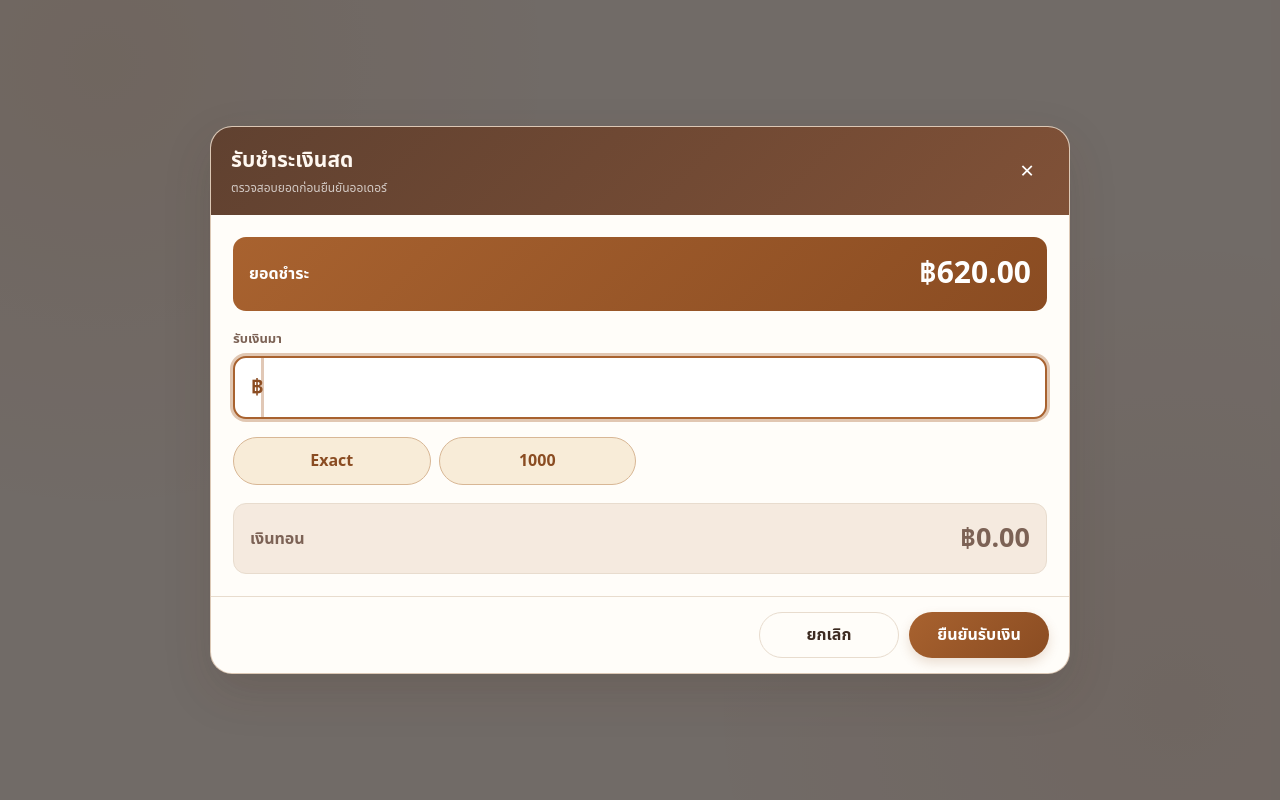
Scenario: CashPaymentModal › supports exact and appropriate denomination shortcuts
Expected: the button "1000" is shown, [438, 437, 636, 485]
Step 1. Click the button "Exact" → (332, 461), box [233, 437, 430, 485]
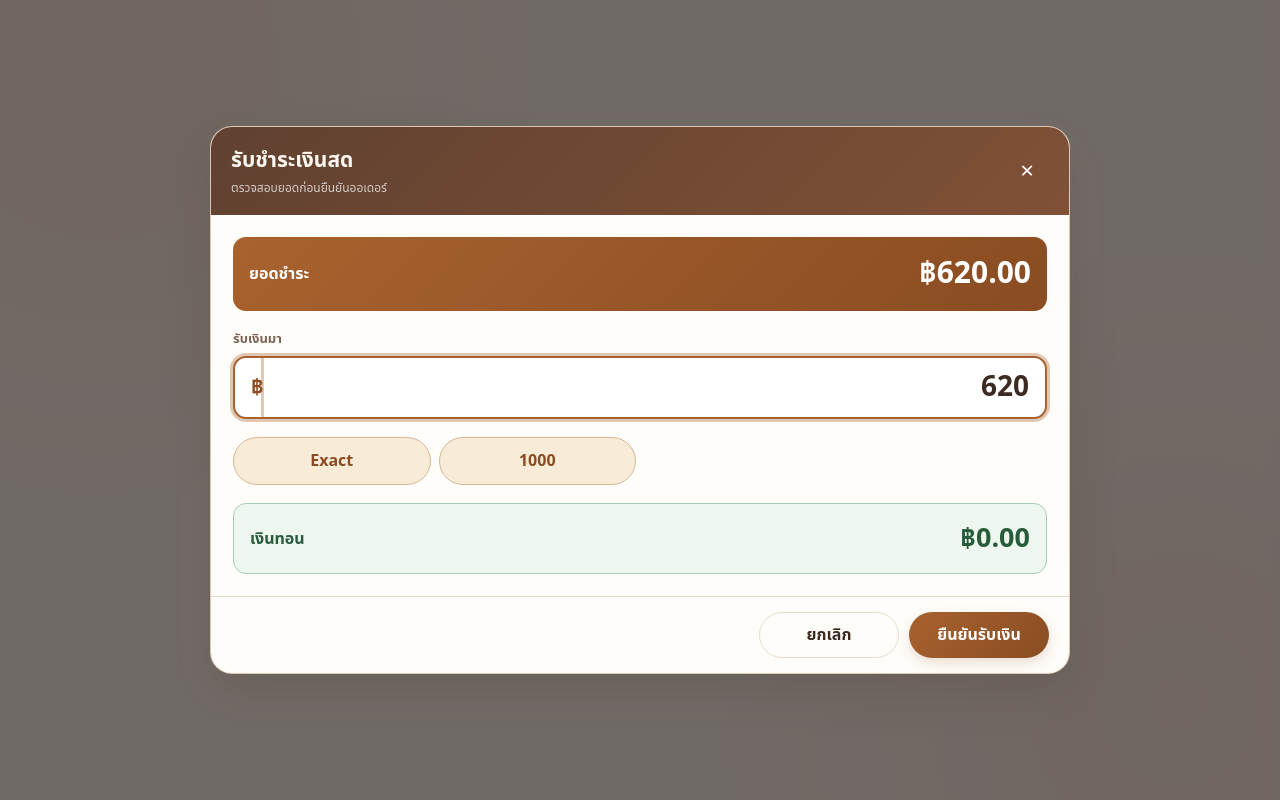
Expected: the text "฿0.00" is shown, [960, 518, 1030, 559]
Expected: the field named "จำนวนเงินที่รับ" holds "620", [264, 358, 1045, 417]
